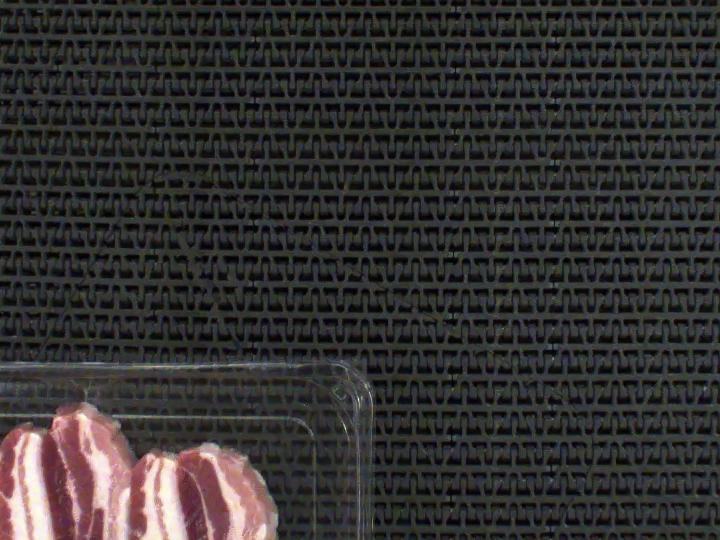packaging-error: (76, 379, 98, 410)
